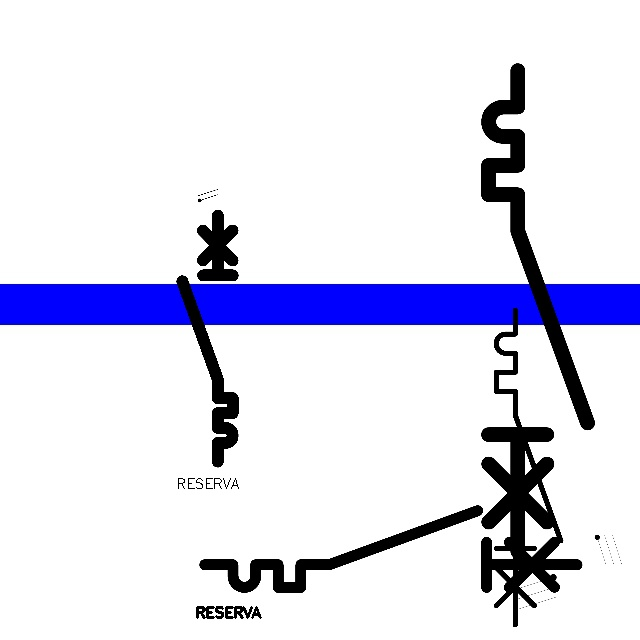interruptor_termomagnetico: (476, 58, 599, 563), (195, 501, 587, 597), (488, 302, 569, 633), (176, 209, 239, 468)
